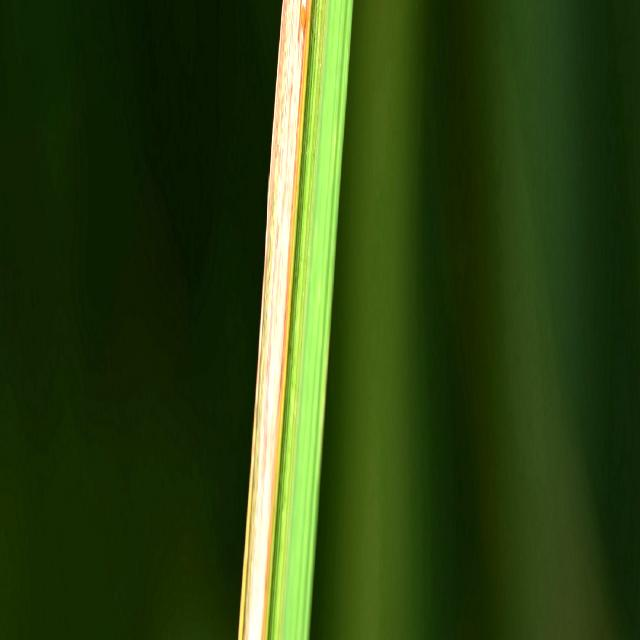BLB: (241, 0, 312, 636)
